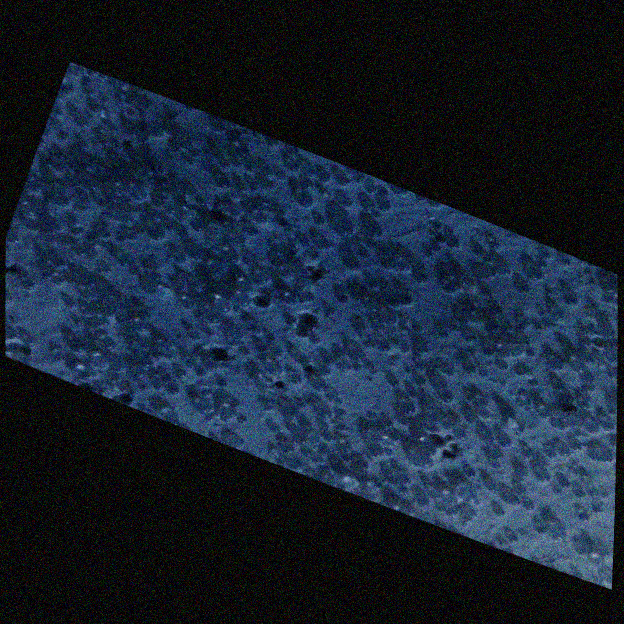GrassBeadSeg: (213, 308, 553, 534), (206, 259, 472, 487), (271, 257, 517, 435), (278, 210, 464, 408), (162, 220, 338, 418), (260, 383, 467, 526), (301, 243, 462, 402), (92, 140, 273, 263), (85, 177, 171, 419), (369, 330, 478, 490), (418, 499, 611, 582), (337, 346, 494, 441), (205, 223, 377, 297), (192, 279, 319, 371), (79, 376, 243, 447), (80, 252, 173, 376), (460, 313, 581, 407), (53, 258, 145, 377), (436, 504, 603, 567), (296, 401, 408, 493), (475, 497, 607, 575), (21, 277, 131, 369), (85, 252, 201, 339), (320, 170, 451, 246), (126, 109, 284, 172), (193, 311, 360, 368), (325, 306, 526, 353), (7, 231, 118, 312), (157, 342, 375, 382), (156, 179, 255, 263), (443, 420, 586, 475), (157, 337, 229, 442), (172, 145, 279, 213), (537, 253, 615, 346), (221, 360, 337, 422), (538, 459, 610, 555), (483, 256, 594, 317), (458, 428, 562, 493), (279, 269, 384, 330), (6, 290, 86, 370), (486, 485, 582, 547), (148, 160, 259, 213), (129, 388, 336, 416), (324, 429, 503, 460), (463, 485, 567, 538), (477, 396, 570, 455), (51, 351, 180, 393), (99, 281, 190, 337), (463, 457, 548, 516), (129, 296, 233, 344), (73, 316, 159, 374), (198, 383, 272, 450), (312, 360, 373, 440), (130, 191, 203, 257), (322, 355, 403, 414), (100, 331, 183, 388), (58, 159, 133, 222), (398, 272, 480, 329), (27, 218, 125, 265), (84, 181, 164, 238), (43, 158, 108, 227), (312, 215, 364, 301), (215, 151, 359, 182), (40, 270, 99, 343), (509, 498, 587, 553), (519, 282, 603, 333), (73, 225, 259, 248), (534, 322, 594, 391), (265, 403, 330, 465), (368, 484, 463, 525), (76, 118, 120, 202), (149, 125, 216, 179), (483, 261, 552, 312), (562, 296, 615, 362), (21, 280, 64, 359), (537, 310, 602, 361), (51, 238, 138, 276), (406, 365, 512, 396), (24, 268, 105, 308), (575, 427, 615, 506), (134, 318, 204, 361), (593, 341, 617, 460), (302, 164, 377, 202), (399, 424, 440, 492), (372, 210, 431, 257), (457, 315, 524, 355), (24, 274, 64, 341), (52, 280, 110, 324), (312, 311, 329, 458), (180, 137, 262, 167), (133, 179, 147, 352), (74, 244, 149, 276), (574, 336, 591, 474), (51, 107, 105, 150), (235, 144, 301, 179), (421, 476, 471, 522), (203, 223, 226, 322), (87, 110, 229, 126), (80, 199, 138, 238), (59, 135, 92, 203), (422, 473, 474, 516), (573, 429, 609, 491), (441, 393, 589, 408), (195, 313, 276, 340), (145, 250, 197, 292), (338, 220, 367, 295), (95, 321, 262, 334), (311, 249, 369, 286), (70, 140, 115, 186), (316, 184, 367, 224), (186, 297, 251, 328), (497, 348, 530, 409), (140, 145, 231, 167), (468, 336, 523, 372), (441, 327, 482, 375), (483, 286, 550, 314), (5, 304, 74, 331), (581, 325, 616, 378), (574, 354, 594, 446), (468, 466, 505, 515), (98, 320, 215, 335), (484, 238, 499, 354), (317, 172, 389, 196), (40, 257, 76, 305), (445, 481, 497, 514), (235, 147, 275, 189), (55, 161, 125, 185), (346, 166, 378, 218), (185, 333, 235, 365), (474, 284, 516, 322), (179, 242, 221, 280), (589, 486, 606, 579), (24, 207, 84, 233), (215, 119, 275, 145), (261, 382, 282, 456), (227, 411, 311, 429), (434, 218, 477, 253), (543, 407, 611, 429), (86, 115, 174, 132), (223, 370, 266, 403), (132, 186, 158, 239), (377, 199, 399, 261), (335, 176, 375, 210), (399, 293, 489, 308), (497, 506, 547, 533), (70, 340, 124, 365), (571, 418, 613, 450), (510, 517, 588, 534), (383, 427, 431, 454), (486, 309, 562, 326), (307, 396, 345, 430), (446, 368, 537, 382), (119, 314, 153, 351), (476, 399, 501, 449), (282, 251, 311, 294), (120, 253, 150, 293), (386, 281, 456, 298), (229, 342, 308, 357), (285, 316, 310, 363), (151, 269, 184, 304), (327, 467, 403, 482), (371, 351, 420, 374), (270, 348, 303, 382), (523, 478, 560, 508), (232, 303, 289, 322), (164, 350, 218, 370), (30, 180, 107, 194), (49, 239, 98, 261), (64, 82, 101, 111), (365, 244, 402, 273), (78, 142, 140, 159), (84, 268, 139, 287), (465, 333, 510, 356), (335, 277, 378, 301), (7, 257, 52, 279), (337, 409, 384, 430), (586, 421, 600, 491), (73, 65, 85, 146), (76, 115, 150, 128), (483, 368, 536, 386), (581, 338, 615, 366), (58, 130, 83, 168), (66, 278, 103, 303), (311, 321, 355, 342), (100, 234, 115, 295), (209, 144, 300, 154), (30, 183, 71, 205), (479, 411, 497, 461), (274, 174, 286, 249), (84, 287, 116, 315), (487, 345, 519, 373), (540, 380, 564, 417), (73, 337, 115, 358), (126, 148, 142, 203), (125, 325, 154, 355), (491, 447, 532, 468), (219, 363, 240, 404), (137, 286, 171, 311), (466, 391, 476, 476), (174, 220, 194, 262), (571, 446, 612, 466), (273, 334, 310, 356), (303, 167, 350, 184), (177, 226, 247, 237), (380, 245, 420, 264), (323, 433, 380, 446), (301, 177, 338, 197), (53, 225, 71, 266), (388, 324, 405, 367), (123, 207, 196, 217), (90, 368, 123, 390), (502, 320, 531, 345), (587, 352, 616, 377), (555, 484, 610, 497), (124, 199, 145, 233), (198, 408, 248, 422), (85, 276, 114, 300), (391, 361, 419, 385), (399, 321, 417, 358), (151, 367, 186, 386), (566, 431, 588, 461), (290, 363, 331, 379), (564, 292, 614, 305), (71, 69, 96, 95), (509, 523, 545, 541), (174, 373, 228, 385), (400, 416, 454, 428), (110, 357, 138, 380), (110, 354, 152, 369), (356, 462, 408, 474), (111, 376, 163, 388), (214, 259, 226, 311), (510, 382, 562, 394), (51, 83, 75, 109), (416, 243, 439, 270), (525, 406, 566, 421), (72, 354, 108, 371), (10, 220, 61, 232), (54, 154, 92, 170), (270, 428, 295, 452), (407, 388, 453, 401), (583, 373, 594, 427), (399, 475, 426, 497), (357, 319, 379, 346), (190, 187, 249, 197), (297, 419, 328, 438), (246, 159, 299, 170), (24, 197, 56, 215), (255, 337, 271, 372), (465, 358, 508, 371), (480, 289, 502, 314), (65, 256, 86, 282), (196, 371, 209, 412), (108, 108, 131, 131), (6, 252, 50, 264), (452, 408, 486, 423), (377, 465, 401, 486), (185, 330, 199, 366), (302, 424, 317, 457), (165, 346, 178, 384), (216, 176, 260, 187), (212, 247, 256, 258), (273, 239, 310, 252), (115, 178, 147, 193), (211, 392, 231, 416), (233, 308, 245, 348), (176, 219, 183, 284), (594, 504, 604, 549), (471, 314, 499, 330), (212, 121, 240, 137), (453, 394, 475, 414), (103, 222, 126, 241), (497, 360, 527, 374), (177, 202, 198, 222), (232, 331, 250, 354), (341, 443, 365, 460), (587, 362, 604, 386), (191, 153, 242, 161), (98, 140, 135, 151), (414, 320, 441, 335), (342, 438, 392, 446), (232, 163, 251, 184), (195, 366, 218, 383), (43, 163, 60, 186), (387, 374, 426, 384), (92, 304, 122, 317), (587, 306, 617, 319), (100, 228, 135, 239), (414, 271, 443, 284), (505, 319, 516, 353), (269, 136, 291, 153), (261, 161, 287, 175), (284, 433, 308, 448), (371, 435, 388, 456), (561, 262, 583, 278), (402, 322, 414, 351), (431, 220, 446, 243), (279, 286, 298, 304), (282, 267, 292, 301), (559, 483, 585, 496), (98, 131, 131, 141), (434, 234, 459, 247), (141, 371, 157, 391), (100, 94, 110, 126), (167, 207, 230, 212), (455, 430, 494, 438), (363, 338, 391, 349), (99, 384, 127, 395), (508, 485, 526, 502), (399, 342, 429, 352), (230, 337, 260, 347), (575, 493, 589, 514), (50, 177, 82, 186), (361, 298, 383, 311), (526, 447, 554, 457), (338, 194, 361, 206), (516, 327, 528, 350), (538, 259, 568, 268), (359, 239, 374, 257), (366, 321, 376, 347), (417, 343, 427, 369), (134, 307, 152, 321), (171, 149, 199, 158), (375, 477, 397, 488), (547, 445, 567, 457), (149, 209, 164, 225), (494, 261, 511, 275), (252, 269, 269, 283), (587, 278, 595, 307), (88, 330, 134, 335), (399, 259, 414, 274), (476, 240, 491, 255), (343, 256, 359, 270), (348, 346, 364, 360), (267, 360, 283, 374), (288, 455, 304, 469), (430, 376, 446, 390), (311, 376, 327, 390), (421, 441, 437, 455), (224, 248, 240, 262), (312, 235, 328, 249), (235, 292, 251, 306), (256, 344, 263, 376), (315, 403, 332, 416), (323, 464, 334, 484), (311, 436, 319, 463), (514, 464, 529, 478), (219, 406, 238, 417), (459, 488, 478, 499), (345, 171, 364, 182), (365, 223, 381, 236), (297, 193, 313, 206), (252, 210, 268, 223), (229, 233, 245, 246), (380, 310, 396, 323), (400, 400, 416, 413), (426, 409, 442, 422), (341, 474, 357, 487), (283, 405, 299, 418), (463, 410, 479, 423), (335, 358, 351, 371), (496, 432, 512, 445), (296, 273, 312, 286), (237, 279, 253, 292), (100, 88, 126, 96), (416, 454, 433, 466), (441, 492, 458, 504), (164, 112, 176, 129), (526, 265, 541, 278), (547, 356, 562, 369), (569, 358, 584, 371), (535, 468, 550, 481), (379, 256, 395, 268), (83, 92, 99, 104), (189, 193, 205, 205), (153, 180, 163, 199), (516, 490, 533, 501), (75, 305, 92, 316), (588, 552, 603, 564), (410, 376, 419, 396), (432, 360, 452, 369), (210, 143, 221, 159), (220, 411, 239, 420), (367, 182, 380, 195), (154, 202, 178, 209), (470, 498, 480, 514), (334, 400, 346, 413), (269, 423, 286, 432), (339, 292, 354, 302), (375, 418, 393, 426), (227, 120, 236, 136), (386, 295, 399, 306), (165, 220, 177, 231), (560, 424, 572, 435), (191, 220, 204, 230), (326, 348, 342, 356), (285, 421, 299, 430), (395, 464, 409, 473), (577, 268, 591, 277), (175, 277, 184, 291), (446, 505, 457, 516), (206, 409, 217, 420), (79, 139, 90, 150), (6, 328, 18, 338), (390, 430, 403, 439), (144, 178, 157, 187), (298, 397, 314, 404), (97, 265, 111, 273), (400, 414, 411, 424), (428, 490, 440, 499), (317, 446, 329, 455), (341, 452, 353, 461), (23, 336, 35, 345), (521, 317, 533, 326), (55, 148, 67, 157), (127, 126, 139, 135), (236, 180, 248, 189), (228, 206, 240, 215), (327, 393, 340, 401), (352, 361, 369, 367), (234, 328, 244, 338), (381, 466, 392, 475), (286, 314, 297, 323), (112, 140, 123, 149), (141, 142, 152, 151), (510, 495, 520, 504), (106, 148, 117, 156), (424, 246, 441, 251), (155, 348, 164, 357), (158, 176, 167, 185), (561, 477, 569, 487), (88, 251, 96, 261), (45, 158, 53, 168), (360, 250, 369, 258), (476, 273, 485, 281), (260, 343, 268, 351), (156, 198, 164, 206), (251, 182, 259, 190), (279, 208, 287, 216), (96, 261, 103, 270), (535, 321, 542, 329), (181, 275, 188, 283), (275, 247, 282, 255), (528, 348, 534, 357), (196, 310, 203, 317), (313, 436, 320, 443), (517, 322, 526, 327)
